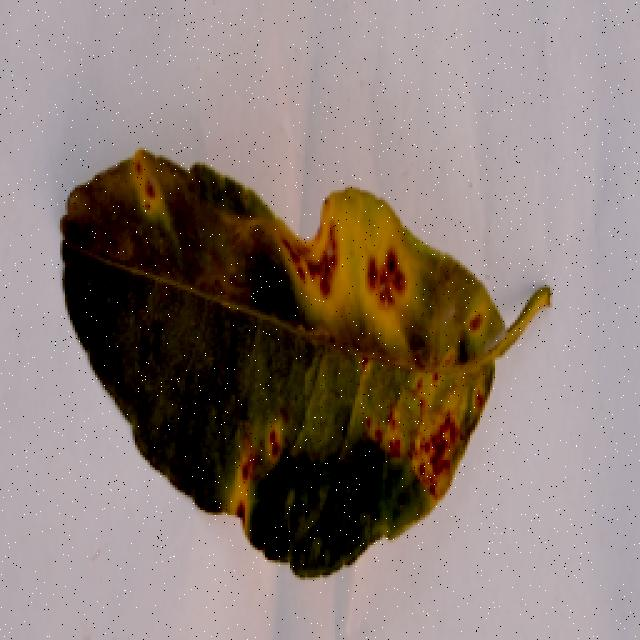canker: (79, 152, 506, 552)
